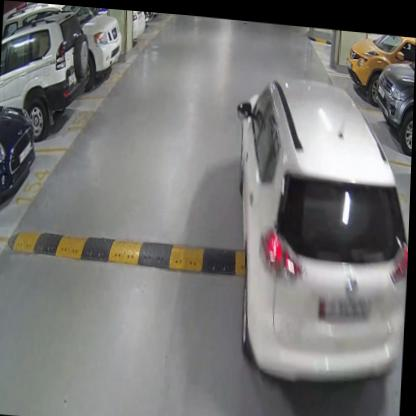np: (320, 290, 372, 316)
